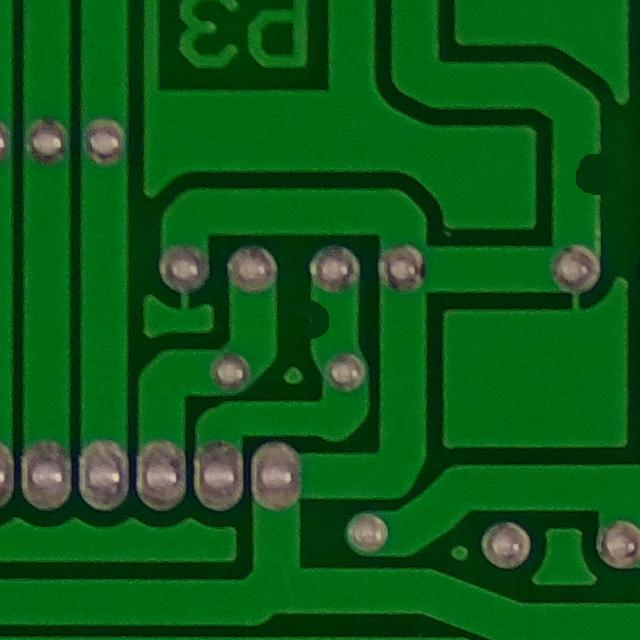mouse_bite: (297, 286, 343, 355)
